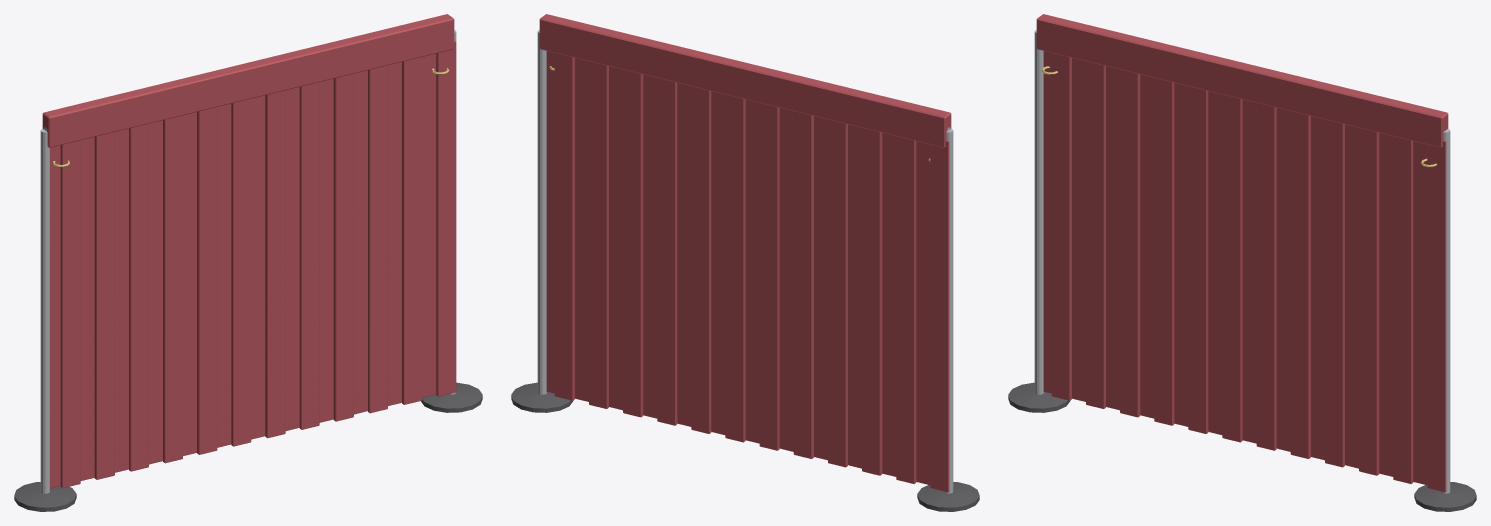
Rendered from orchestra-and-band-instruments-stage-curtain-a3989d46__39324.glb.
3 renders of one model, left to right at view 1: azimuth 30°, elevation 25°; view 2: azimuth 150°, elevation 25°; view 3: azimuth 330°, elevation 25°, orthographic.
Parts seen in each view (by area): view 1: stage-curtain; view 2: stage-curtain; view 3: stage-curtain.
Boxes of the visible parts, box(x1,y1,x2,y2) form: stage-curtain: box(14, 14, 482, 511); stage-curtain: box(511, 14, 979, 511); stage-curtain: box(1008, 14, 1476, 511).
Bounding box in the file's own units: 3.4 × 2.71 × 0.3897.
